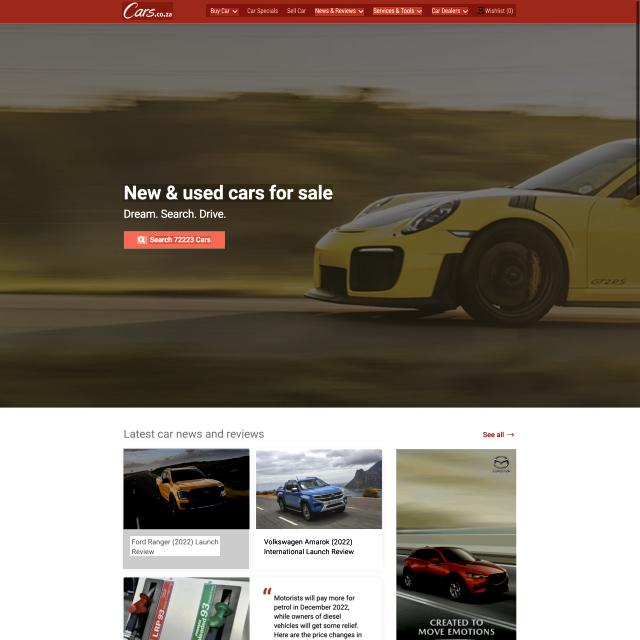CheckBox: (124, 231, 225, 249), (481, 426, 516, 440)
ImageView: (396, 449, 516, 640)
Input field: (262, 537, 356, 557), (130, 536, 220, 556)
Spinner: (255, 448, 382, 570), (123, 448, 249, 569)
alert: (315, 7, 364, 15), (373, 7, 422, 15), (432, 7, 468, 15), (210, 7, 239, 15)
bag: (0, 0, 636, 24)
breadcrumbs: (120, 426, 265, 442)
card: (0, 23, 640, 407)
carousel: (137, 236, 147, 244), (478, 7, 484, 14)
copy: (256, 448, 382, 530), (124, 449, 249, 529)
data feed: (149, 236, 211, 244)
date picker: (122, 2, 173, 20)
decoration: (206, 4, 516, 17)
image: (123, 184, 333, 202)
